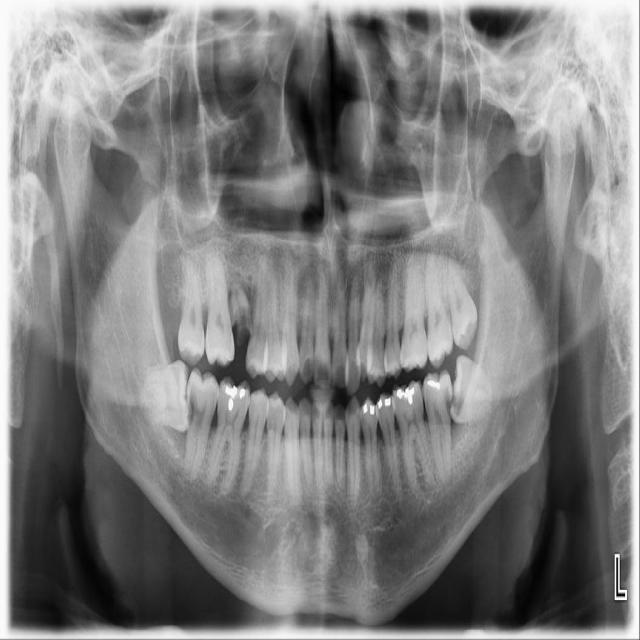Caries: (449, 390, 465, 423), (188, 399, 195, 423)
Filling: (222, 384, 248, 412), (393, 382, 418, 404), (377, 397, 396, 417), (424, 377, 443, 394), (359, 400, 376, 418)
Root Piece: (230, 276, 253, 347)
impacted tooth: (137, 361, 188, 429), (450, 357, 500, 423)
